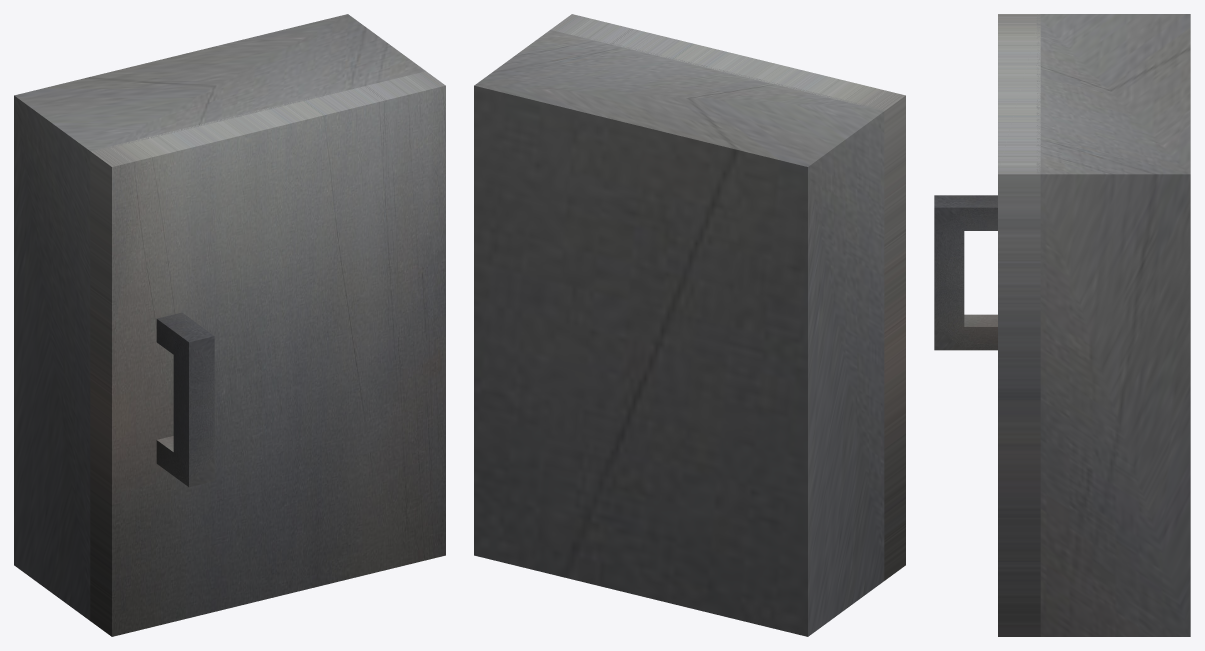
File: ElectricityBox.fbx
3 renders of one model, left to right at view 1: azimuth 30°, elevation 25°; view 2: azimuth 150°, elevation 25°; view 3: azimuth 270°, elevation 25°, orthographic.
Visible parts, largest first — view 1: Door, Box; view 2: Box, Door; view 3: Box, Door.
Boxes of the visible parts, x1,y1,x2,y2 form: Door: (90, 71, 445, 636); Box: (14, 14, 425, 620); Box: (474, 30, 884, 636); Door: (550, 14, 905, 580); Box: (1036, 14, 1190, 636); Door: (934, 14, 1040, 636).
Bounding box in the file's own units: 195 × 262 × 131.
